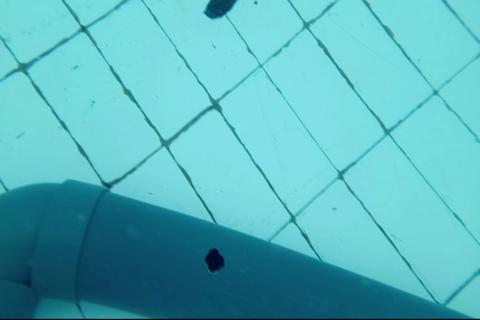kebocoran: (204, 245, 226, 274)
